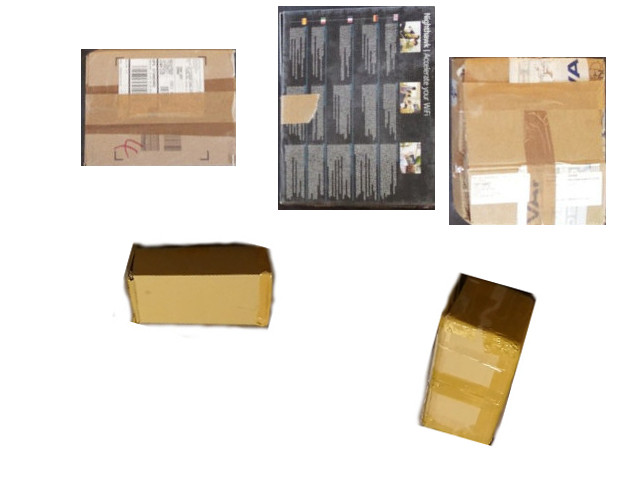cardboard: (278, 6, 437, 210), (449, 57, 605, 223), (423, 276, 531, 445), (84, 50, 236, 167), (125, 248, 271, 325)
